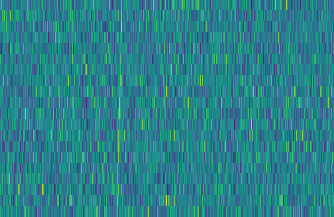signal: (111, 0, 125, 217)
